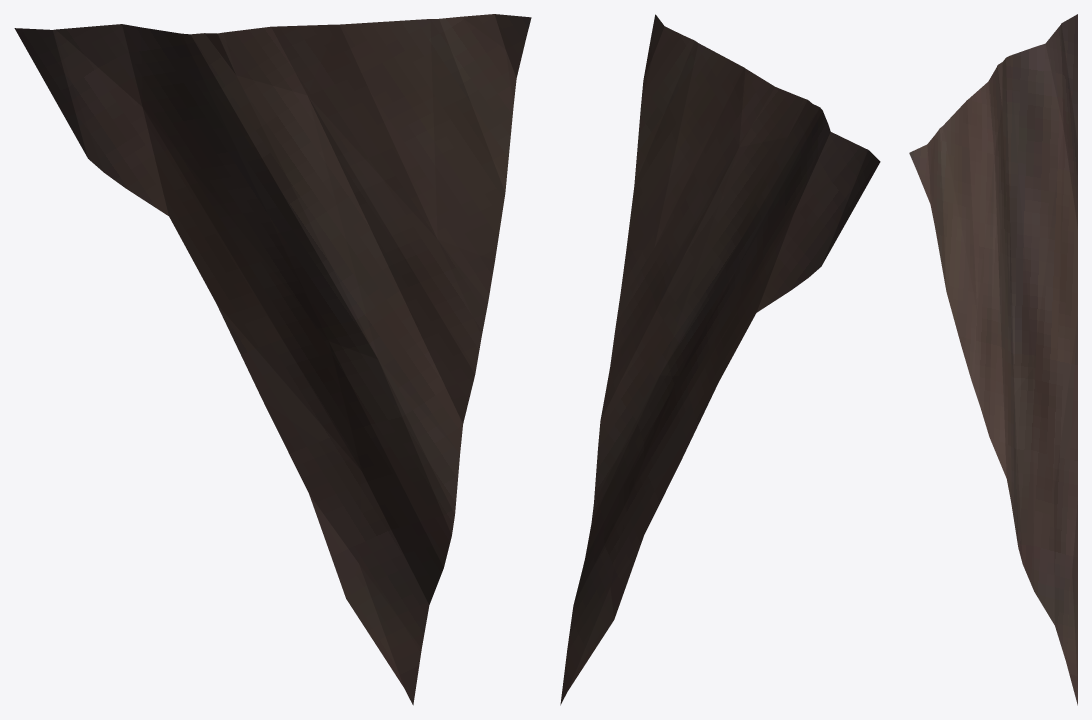
3 views of the same model, side by side, from view 1: azimuth 30°, elevation 25°; view 2: azimuth 150°, elevation 25°; view 3: azimuth 270°, elevation 25° (orthographic). The views are drawn at different scales.
Bounding box in the file's own units: 16.19 × 30.07 × 8.32.
1 material, 1 textured.
